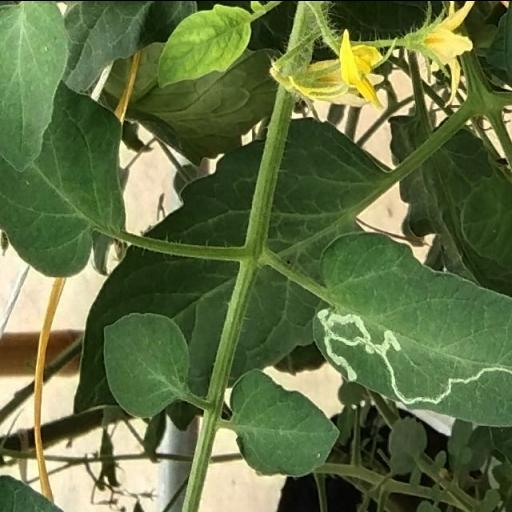disease_tomato: (312, 232, 512, 430)
